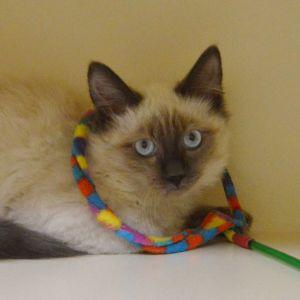siamese: (85, 41, 243, 219)
